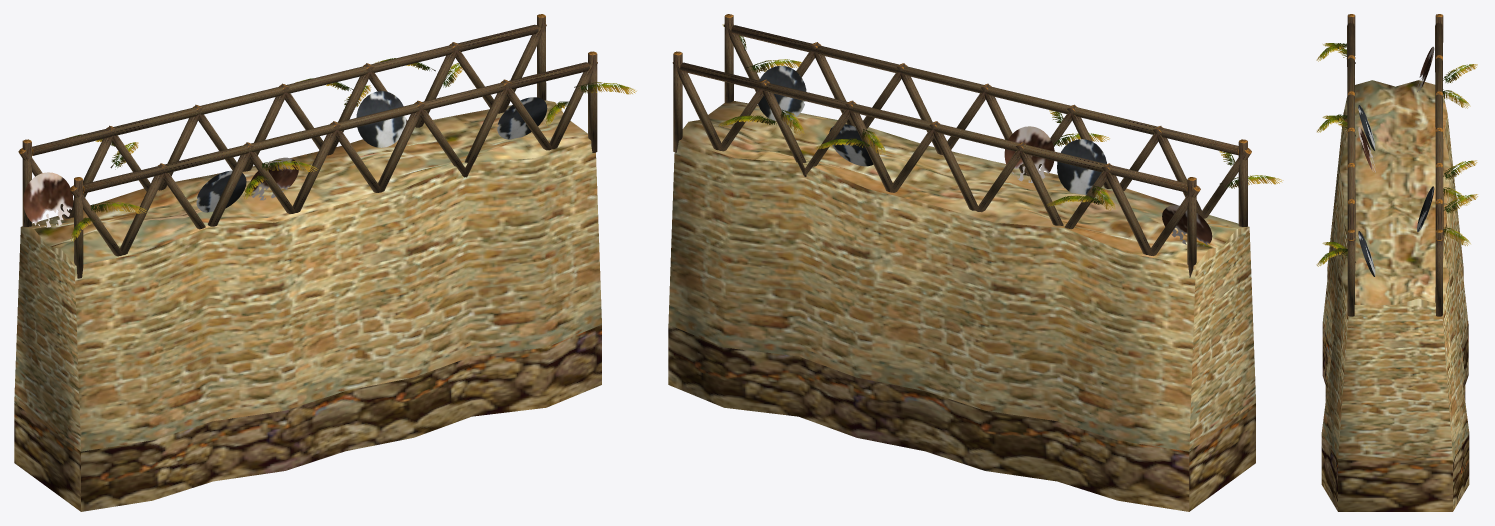
The model's file is wall_medium.dae.
The picture shows the model from 3 angles, left to right: view 1: azimuth 30°, elevation 25°; view 2: azimuth 150°, elevation 25°; view 3: azimuth 270°, elevation 25°; orthographic projection. The views are drawn at different scales.
Visible parts, largest first — view 1: wall_medium; view 2: wall_medium; view 3: wall_medium.
Part boxes in pixels (box(x1,y1,x2,y2)): wall_medium: box(14, 14, 636, 511); wall_medium: box(668, 14, 1283, 511); wall_medium: box(1316, 14, 1477, 511).
Size of the model in its own units: 31.85 by 9.45 by 17.39.
